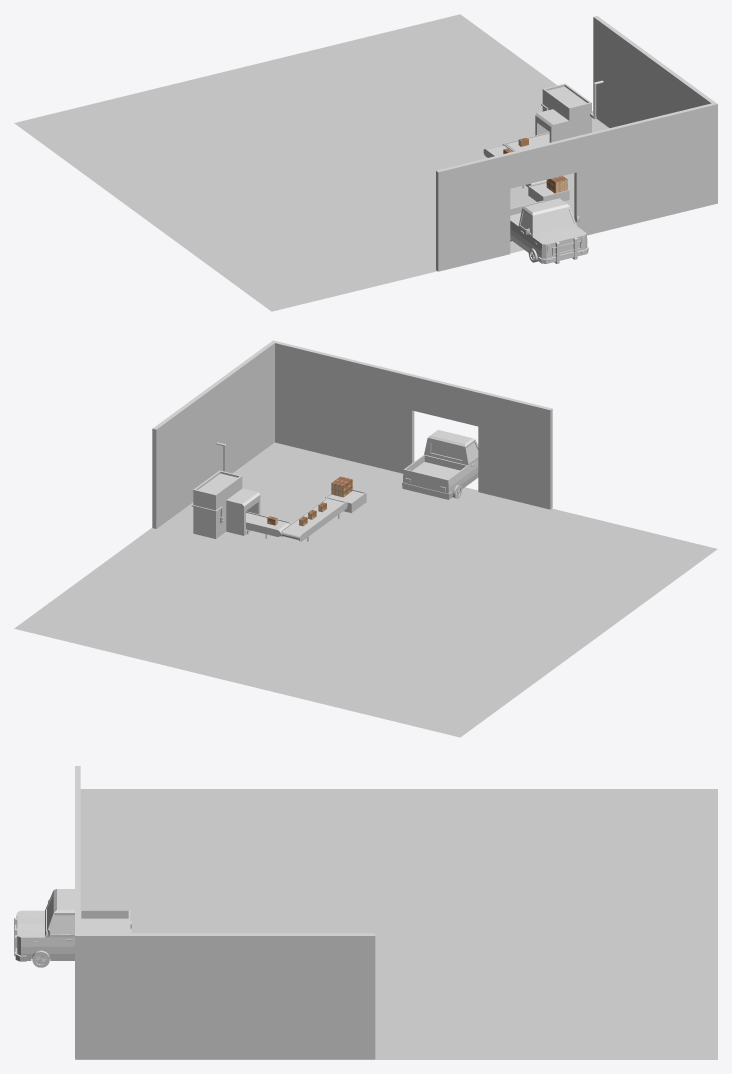
File: MainScene.fbx
3 views of the same model, one above another, from view 1: azimuth 30°, elevation 25°; view 2: azimuth 150°, elevation 25°; view 3: azimuth 270°, elevation 25° (orthographic). The views are drawn at different scales.
Visible parts, largest first — view 1: Plane, Cube.003, Cube.005, Cube.002, Cube.004; view 2: Plane, Cube.003, Cube.005, Cube.002, Cube, Cube.001; view 3: Plane, Cube.003, Cube.005.
Part boxes in pixels (left/top/right/bottom): Plane: left=14, top=14, right=609, bottom=311; Cube.003: left=436, top=16, right=717, bottom=271; Cube.005: left=510, top=198, right=588, bottom=263; Cube.002: left=535, top=80, right=603, bottom=142; Cube.004: left=528, top=181, right=569, bottom=201; Plane: left=14, top=442, right=717, bottom=737; Cube.003: left=152, top=340, right=552, bottom=528; Cube.005: left=402, top=430, right=478, bottom=499; Cube.002: left=191, top=442, right=260, bottom=538; Cube: left=280, top=497, right=347, bottom=541; Cube.001: left=246, top=511, right=290, bottom=538; Plane: left=77, top=789, right=717, bottom=1059; Cube.003: left=75, top=766, right=375, bottom=1059; Cube.005: left=14, top=889, right=131, bottom=967.
Size of the model in its own units: 5000 by 1065 by 5489.
